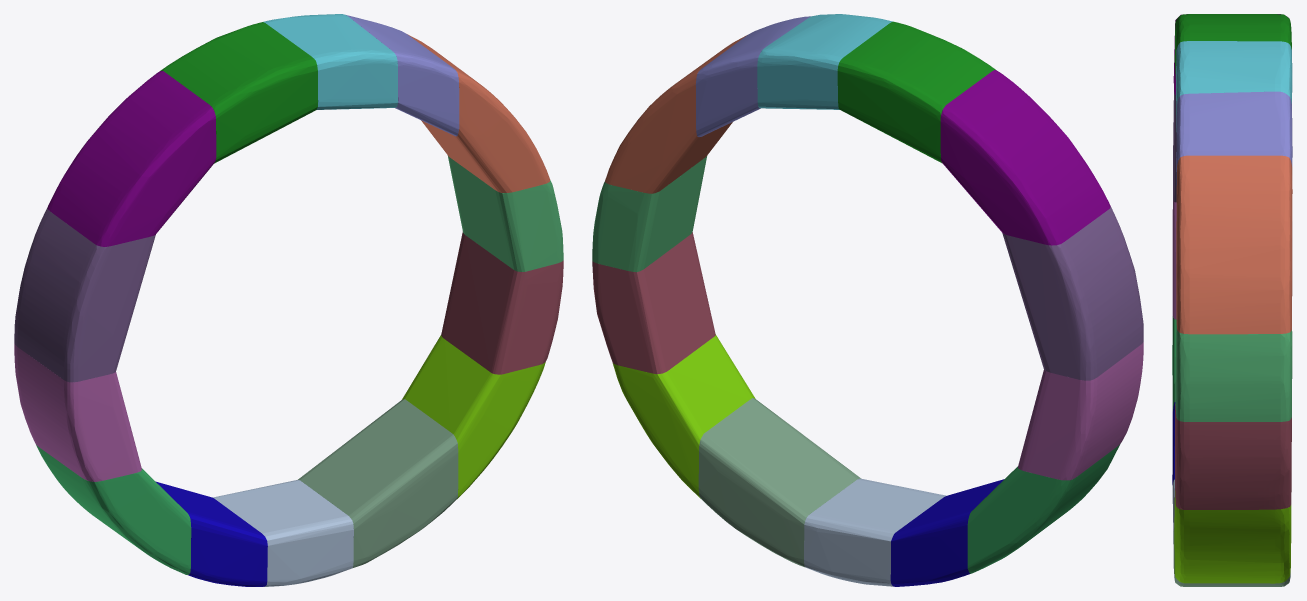
File: coacd_collision.obj
3 renders of one model, left to right at view 1: azimuth 30°, elevation 25°; view 2: azimuth 150°, elevation 25°; view 3: azimuth 270°, elevation 25°, orthographic.
Visible parts, largest first — view 1: geometry_11, geometry_1, geometry_0, geometry_8, geometry_13, geometry_7, geometry_4, geometry_6, geometry_2, geometry_3, geometry_10, geometry_9 (+2 smaller); view 2: geometry_11, geometry_1, geometry_0, geometry_8, geometry_13, geometry_7, geometry_4, geometry_6, geometry_2, geometry_3, geometry_9, geometry_10 (+2 smaller); view 3: geometry_9, geometry_3, geometry_13, geometry_4, geometry_12, geometry_2, geometry_8, geometry_0, geometry_7, geometry_1, geometry_10, geometry_5.
Boxes of the visible parts, left/top/right/bottom form: geometry_11: left=47, top=71, right=216, bottom=246; geometry_1: left=14, top=208, right=155, bottom=382; geometry_0: left=298, top=399, right=458, bottom=567; geometry_8: left=160, top=22, right=318, bottom=163; geometry_13: left=441, top=231, right=563, bottom=374; geometry_7: left=14, top=343, right=141, bottom=481; geometry_4: left=402, top=335, right=545, bottom=498; geometry_6: left=213, top=480, right=353, bottom=586; geometry_2: left=263, top=14, right=398, bottom=109; geometry_3: left=447, top=155, right=563, bottom=271; geometry_10: left=36, top=445, right=191, bottom=574; geometry_9: left=407, top=34, right=550, bottom=192; geometry_11: left=940, top=70, right=1110, bottom=245; geometry_1: left=1002, top=206, right=1143, bottom=380; geometry_0: left=698, top=398, right=860, bottom=567; geometry_8: left=837, top=21, right=995, bottom=163; geometry_13: left=592, top=232, right=715, bottom=374; geometry_7: left=1018, top=342, right=1143, bottom=480; geometry_4: left=612, top=334, right=755, bottom=498; geometry_6: left=804, top=478, right=946, bottom=586; geometry_2: left=757, top=14, right=892, bottom=109; geometry_3: left=592, top=156, right=706, bottom=272; geometry_9: left=605, top=35, right=746, bottom=193; geometry_10: left=967, top=444, right=1120, bottom=573; geometry_9: left=1176, top=155, right=1292, bottom=334; geometry_3: left=1175, top=319, right=1292, bottom=421; geometry_13: left=1175, top=404, right=1291, bottom=509; geometry_4: left=1174, top=491, right=1291, bottom=583; geometry_12: left=1176, top=91, right=1292, bottom=185; geometry_2: left=1176, top=41, right=1292, bottom=131; geometry_8: left=1174, top=14, right=1291, bottom=78; geometry_0: left=1173, top=528, right=1290, bottom=586; geometry_7: left=1172, top=201, right=1176, bottom=319; geometry_1: left=1173, top=92, right=1176, bottom=202; geometry_10: left=1172, top=316, right=1176, bottom=410; geometry_5: left=1172, top=402, right=1175, bottom=484.
Bounding box in the file's own units: 94.73 × 94.38 × 19.75.
